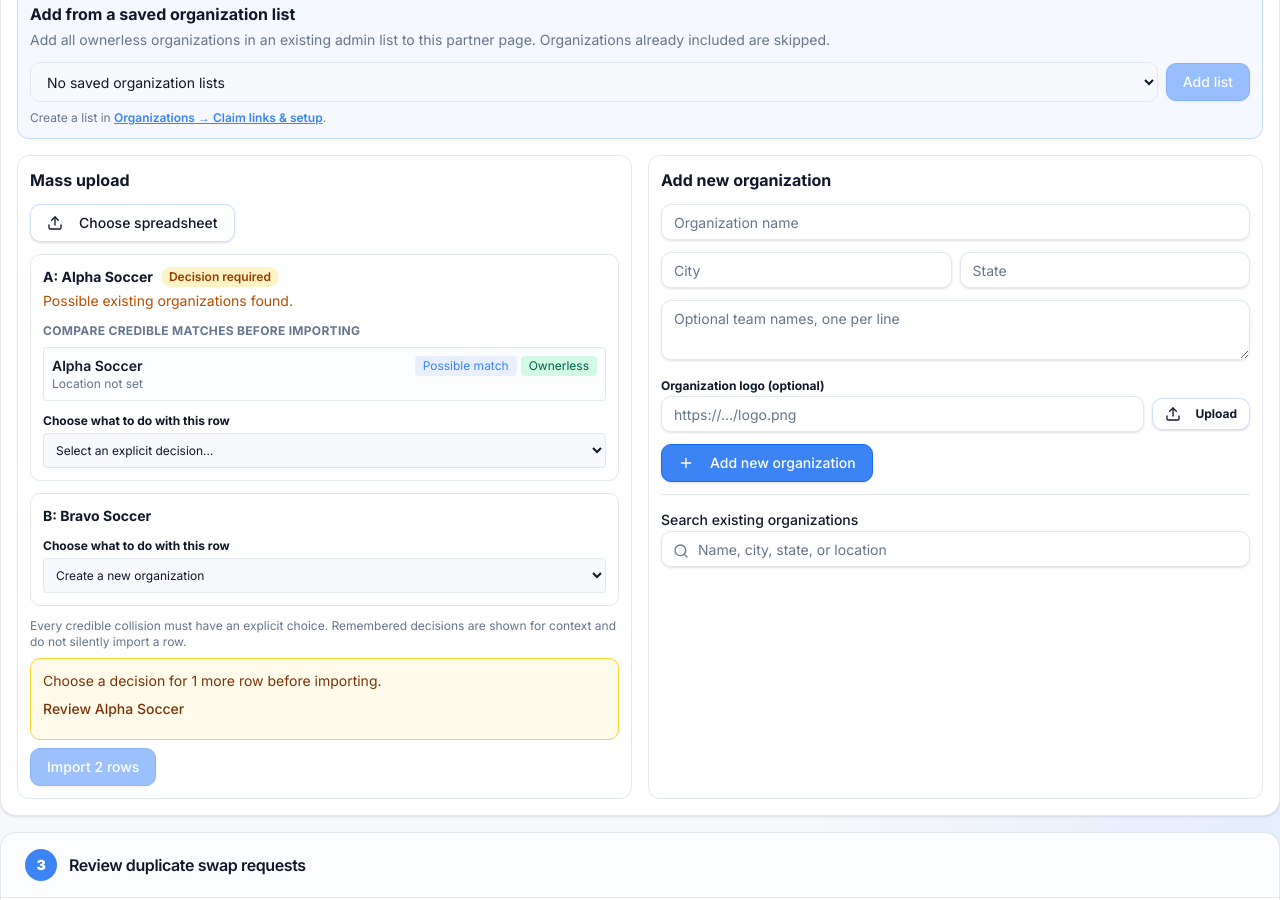
Test case: partner spreadsheet import › sends explicit creation despite a match as keep_distinct and shows completion
Earlier steps of the test are not shown.
(page scrolled)
Step 1. Select "Create a new organization (keep distinct from matches)" in the dropdown with test id "select-import-decision-0" → {"x": 324, "y": 450}, box [43,433,606,468]
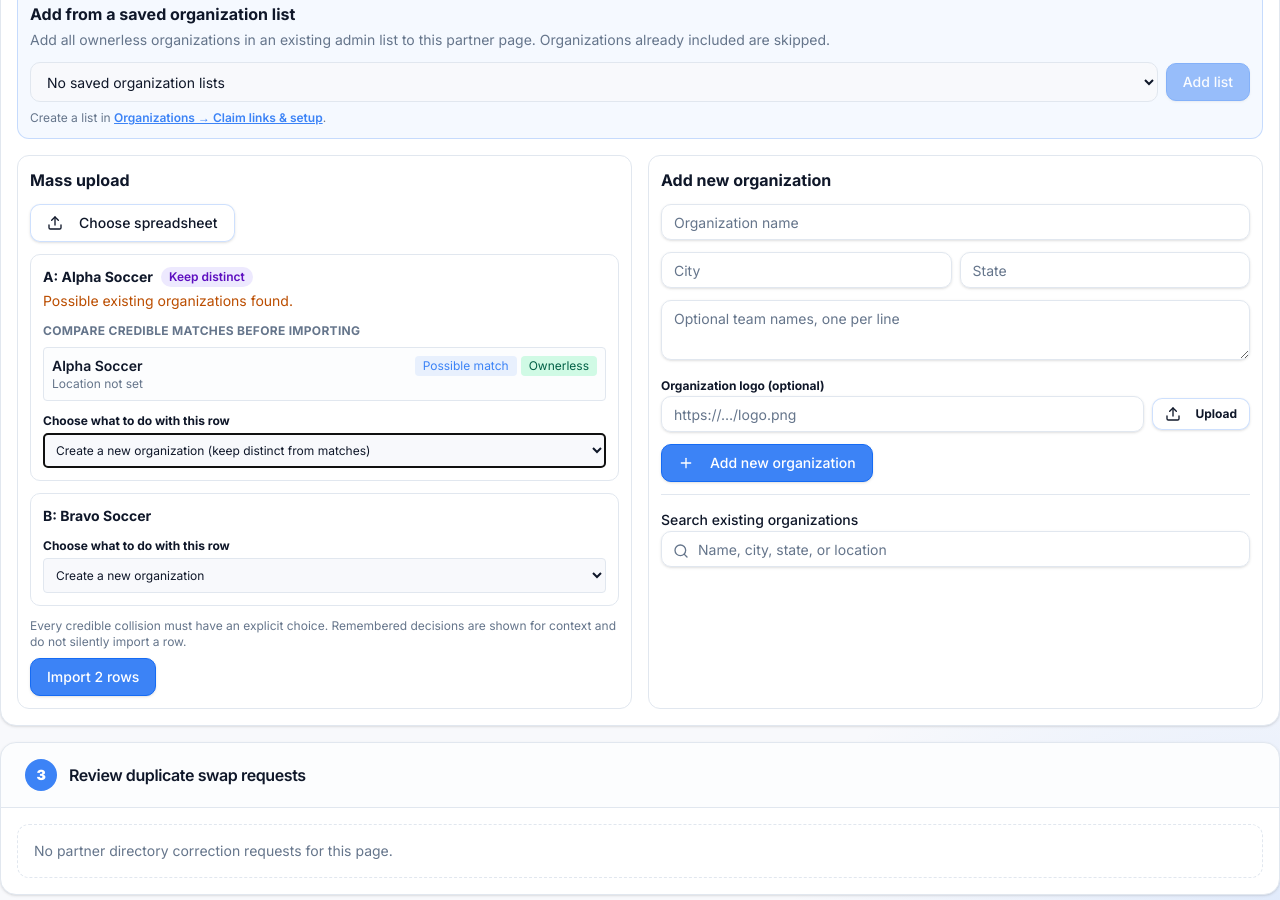
Step 2. Click the button with test id "btn-run-partner-import" → {"x": 93, "y": 677}, box [30,658,156,696]
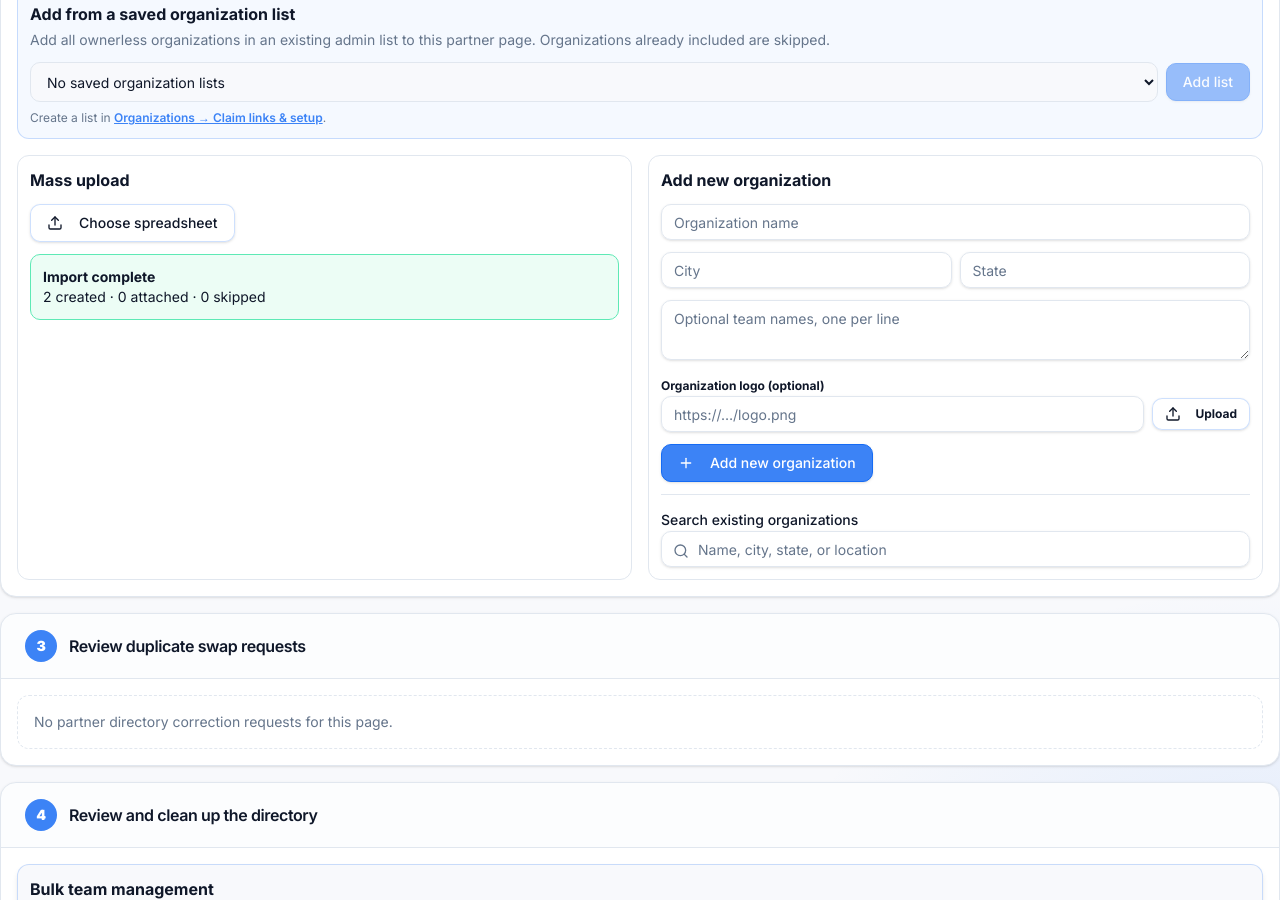
Now the element with test id "partner-import-summary" shows "Import complete", box [43,268,155,285]
Now the button with test id "btn-run-partner-import" is gone
